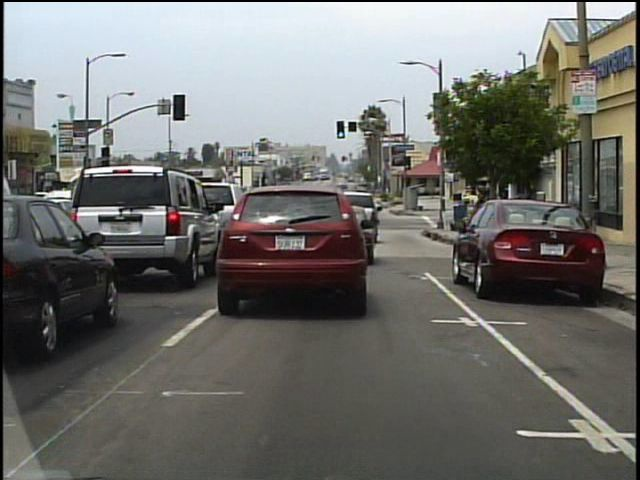person: (472, 194, 485, 243)
